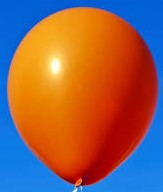Balloon: (7, 7, 158, 187)
